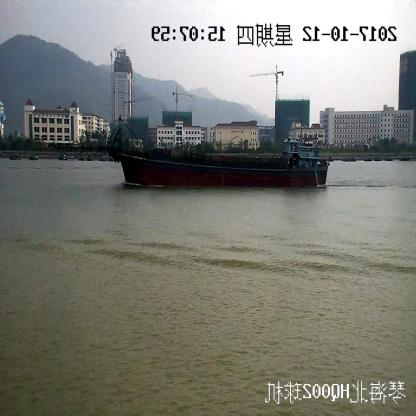Bulk Carrier: (82, 118, 328, 186)
